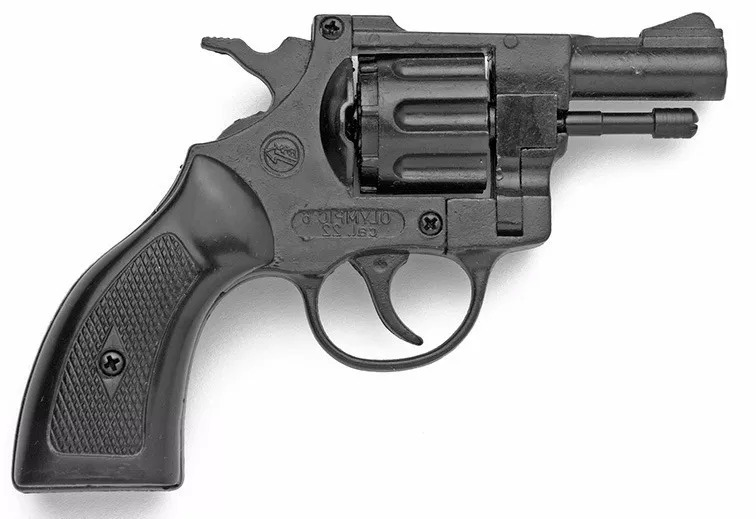Revolver: (2, 0, 731, 506)
